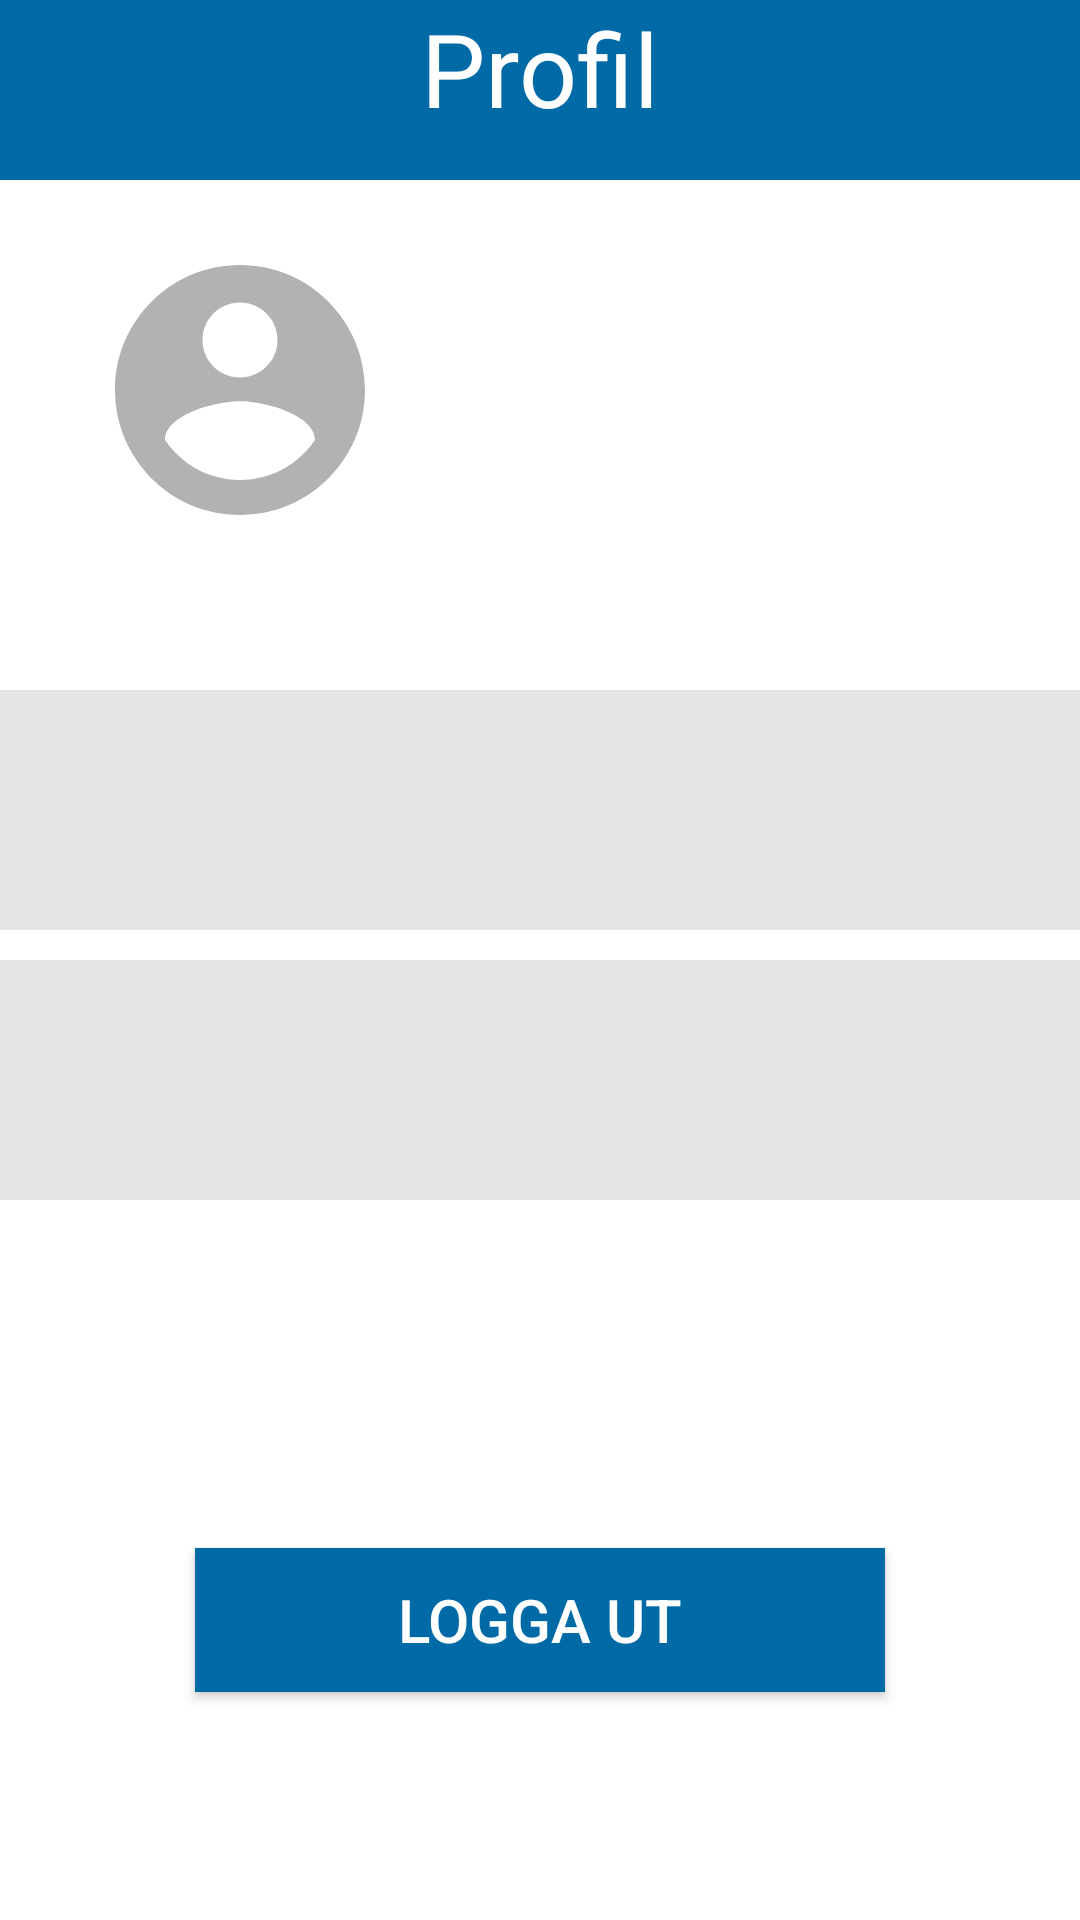

Where to tap for icons on this 1080x1920 app screen, as [x,y]:
account circle: [240,390]
